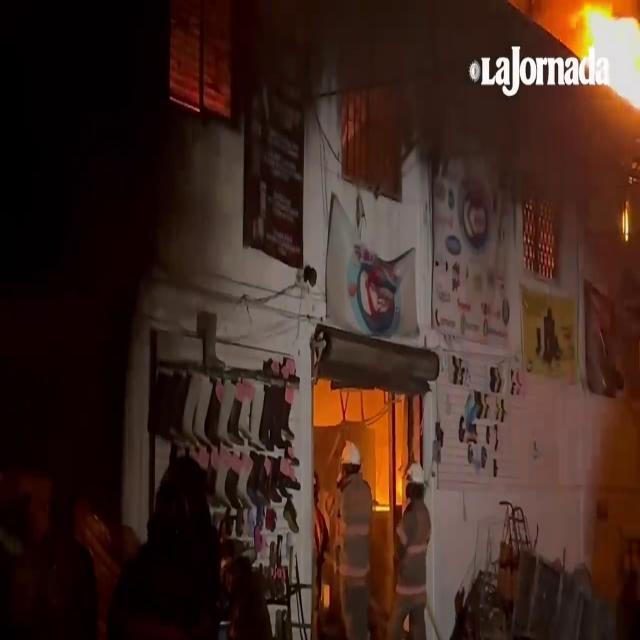Fire: (570, 0, 640, 121)
